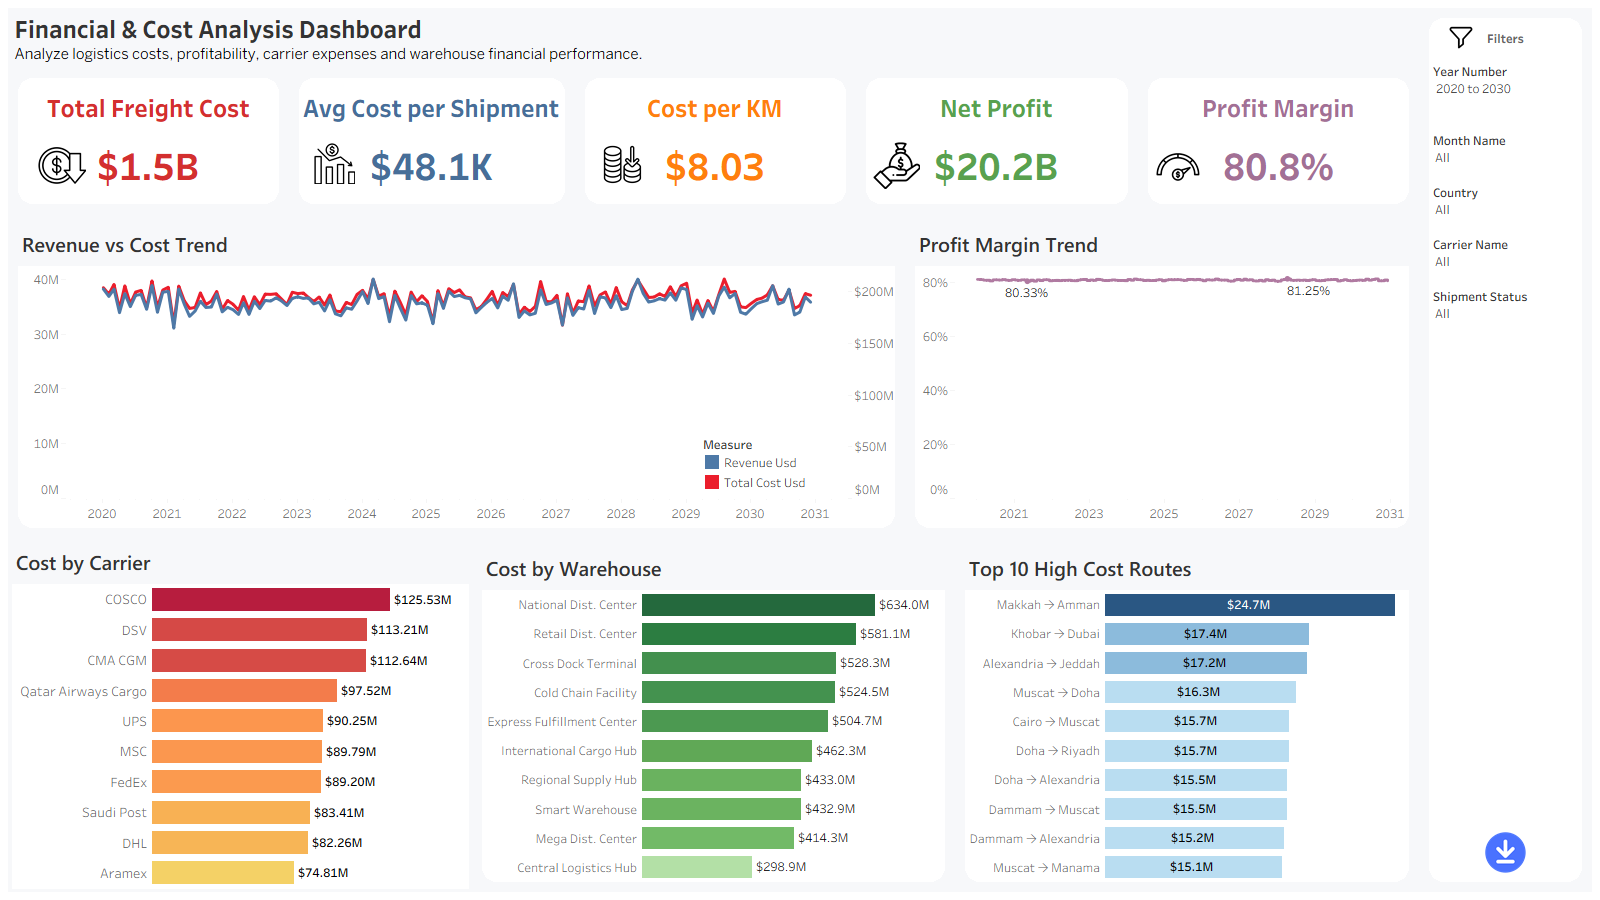

The page's visual inventory and layout, read from the dashboard file:
{"tool":"tableau","page":{"name":"Financial & Cost Analysis Dashboard","canvas":[1600,900],"ordinal":3},"visuals":[{"type":"title","box":[8,8,1411,60]},{"type":"text","box":[1429,18,153,40]},{"type":"image","param":"Image/filter.png","box":[1446,23,29,27]},{"type":"filter","title":"Profit Margin Trend","param":"[federated.0jvln5y0i2vktg16s0ugy1m90pce].[none:year_number:qk]","box":[1429,58,153,69]},{"type":"worksheet","title":"KPI - Freight Cost","mark":"Text","box":[8,68,281.2,146]},{"type":"worksheet","title":"KPI - Avg Cost per Shipment","mark":"Text","box":[289.2,68,286,146]},{"type":"worksheet","title":"KPI - Cost per KM","mark":"Text","box":[575.2,68,281.2,146]},{"type":"worksheet","title":"KPI - Net Profit","mark":"Text","box":[856.5,68,281.2,146]},{"type":"worksheet","title":"KPI - Profit Margin%","mark":"Automatic","box":[1137.7,68,281.2,146]},{"type":"filter","title":"Profit Margin Trend","param":"[federated.0jvln5y0i2vktg16s0ugy1m90pce].[none:month_name:nk]","box":[1429,127,153,52]},{"type":"image","param":"Image/low-price.png","box":[36,141,53,48]},{"type":"image","param":"Image/money(1).png","box":[598,142,49,44]},{"type":"image","param":"Image/profit.png","box":[869,142,56,47]},{"type":"image","param":"Image/revenue.png","box":[1152,142,52,49]},{"type":"image","param":"Image/reduce-cost.png","box":[311,143,48,41]},{"type":"filter","title":"Profit Margin Trend","param":"[federated.0jvln5y0i2vktg16s0ugy1m90pce].[none:country:nk]","box":[1429,179,153,52]},{"type":"worksheet","title":"Revenue vs Cost Trend","mark":"Automatic","rows":["total_cost_usd","revenue_usd"],"cols":["full_date"],"box":[8,214,897,324]},{"type":"worksheet","title":"Profit Margin Trend","mark":"Line","rows":["Calculation_1349132143542289"],"cols":["full_date"],"box":[905,214,514,324]},{"type":"filter","title":"Profit Margin Trend","param":"[federated.0jvln5y0i2vktg16s0ugy1m90pce].[none:carrier_name:nk]","box":[1429,231,153,52]},{"type":"filter","title":"Profit Margin Trend","param":"[federated.0jvln5y0i2vktg16s0ugy1m90pce].[none:shipment_status:nk]","box":[1429,283,153,52]},{"type":"legend","title":"Revenue vs Cost Trend","param":"[federated.0jvln5y0i2vktg16s0ugy1m90pce].[:Measure Names]","box":[702,434,140,58]},{"type":"worksheet","title":"Cost by Carrier","mark":"Automatic","rows":["carrier_name"],"cols":["Calculation_1349132139151373"],"box":[8,538,463.7,353.9]},{"type":"worksheet","title":"Cost by Warehouse","mark":"Automatic","rows":["warehouse_name"],"cols":["total_cost_usd"],"box":[471.7,538,483.7,353.9]},{"type":"worksheet","title":"Top 10 High Cost Routes","mark":"Automatic","rows":["Calculation_1349131463843841"],"cols":["Calculation_1349132139151373"],"box":[955.3,538,463.7,353.9]},{"type":"dashboard-object","box":[1478,830,54,44]}]}

Visuals, with their boxes in screenshot pixels (x1, y1, x2, y2), scaled from the page's 1600x900 canvas onto the 1600x900 screenshot:
title: x1=8 y1=8 x2=1419 y2=68
text: x1=1429 y1=18 x2=1582 y2=58
image: x1=1446 y1=23 x2=1475 y2=50
"Profit Margin Trend" filter: x1=1429 y1=58 x2=1582 y2=127
"KPI - Freight Cost" worksheet (Text marks): x1=8 y1=68 x2=289 y2=214
"KPI - Avg Cost per Shipment" worksheet (Text marks): x1=289 y1=68 x2=575 y2=214
"KPI - Cost per KM" worksheet (Text marks): x1=575 y1=68 x2=856 y2=214
"KPI - Net Profit" worksheet (Text marks): x1=856 y1=68 x2=1138 y2=214
"KPI - Profit Margin%" worksheet: x1=1138 y1=68 x2=1419 y2=214
"Profit Margin Trend" filter: x1=1429 y1=127 x2=1582 y2=179
image: x1=36 y1=141 x2=89 y2=189
image: x1=598 y1=142 x2=647 y2=186
image: x1=869 y1=142 x2=925 y2=189
image: x1=1152 y1=142 x2=1204 y2=191
image: x1=311 y1=143 x2=359 y2=184
"Profit Margin Trend" filter: x1=1429 y1=179 x2=1582 y2=231
"Revenue vs Cost Trend" worksheet: x1=8 y1=214 x2=905 y2=538
"Profit Margin Trend" worksheet (Line marks): x1=905 y1=214 x2=1419 y2=538
"Profit Margin Trend" filter: x1=1429 y1=231 x2=1582 y2=283
"Profit Margin Trend" filter: x1=1429 y1=283 x2=1582 y2=335
"Revenue vs Cost Trend" legend: x1=702 y1=434 x2=842 y2=492
"Cost by Carrier" worksheet: x1=8 y1=538 x2=472 y2=892
"Cost by Warehouse" worksheet: x1=472 y1=538 x2=955 y2=892
"Top 10 High Cost Routes" worksheet: x1=955 y1=538 x2=1419 y2=892
dashboard-object: x1=1478 y1=830 x2=1532 y2=874
